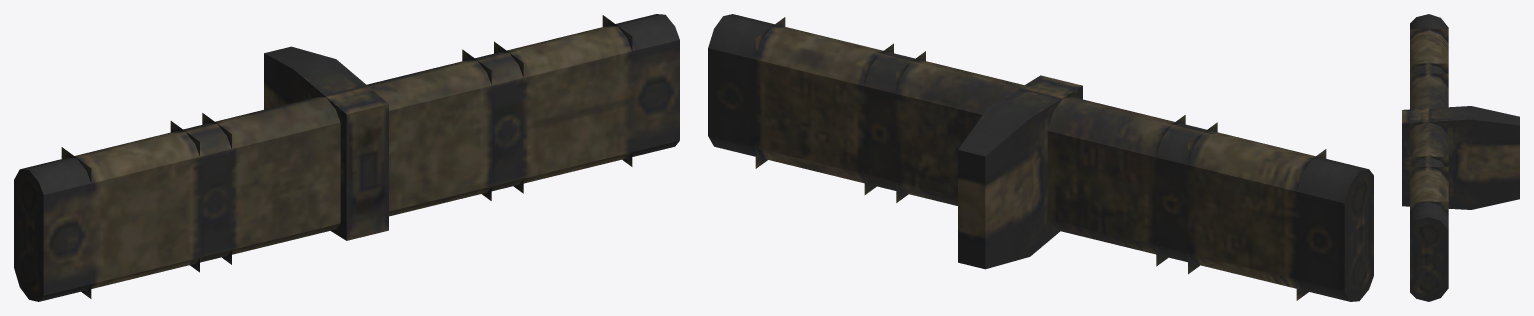
3 views of the same model, side by side, from view 1: azimuth 30°, elevation 25°; view 2: azimuth 150°, elevation 25°; view 3: azimuth 270°, elevation 25° (orthographic). The views are drawn at different scales.
Visible parts, largest first — view 1: set_0_group_0; view 2: set_0_group_0; view 3: set_0_group_0.
Part boxes in pixels (<box>): set_0_group_0: <box>14,14,679,301</box>; set_0_group_0: <box>708,14,1373,301</box>; set_0_group_0: <box>1402,14,1519,301</box>.
Bounding box in the file's own units: 0.6002 × 0.1247 × 0.1471.
Materials: 1 (1 with a texture image).
